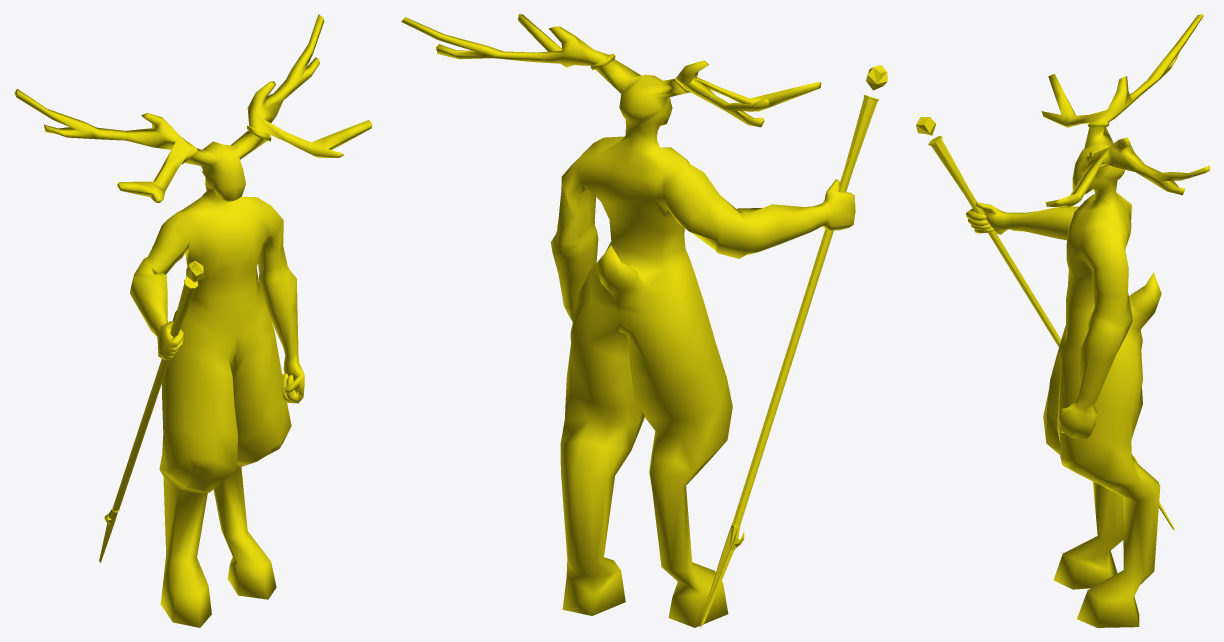
The model's file is bosspose.FBX.
3 views of the same model, side by side, from view 1: azimuth 30°, elevation 25°; view 2: azimuth 150°, elevation 25°; view 3: azimuth 270°, elevation 25° (orthographic). The views are drawn at different scales.
Parts seen in each view (by area): view 1: polySurface3; view 2: polySurface3; view 3: polySurface3.
Part boxes in pixels (x1,y1,x2,y2): polySurface3: [14, 14, 372, 627]; polySurface3: [401, 14, 887, 627]; polySurface3: [916, 14, 1209, 627].
Size of the model in its own units: 70.25 by 111 by 57.21.
